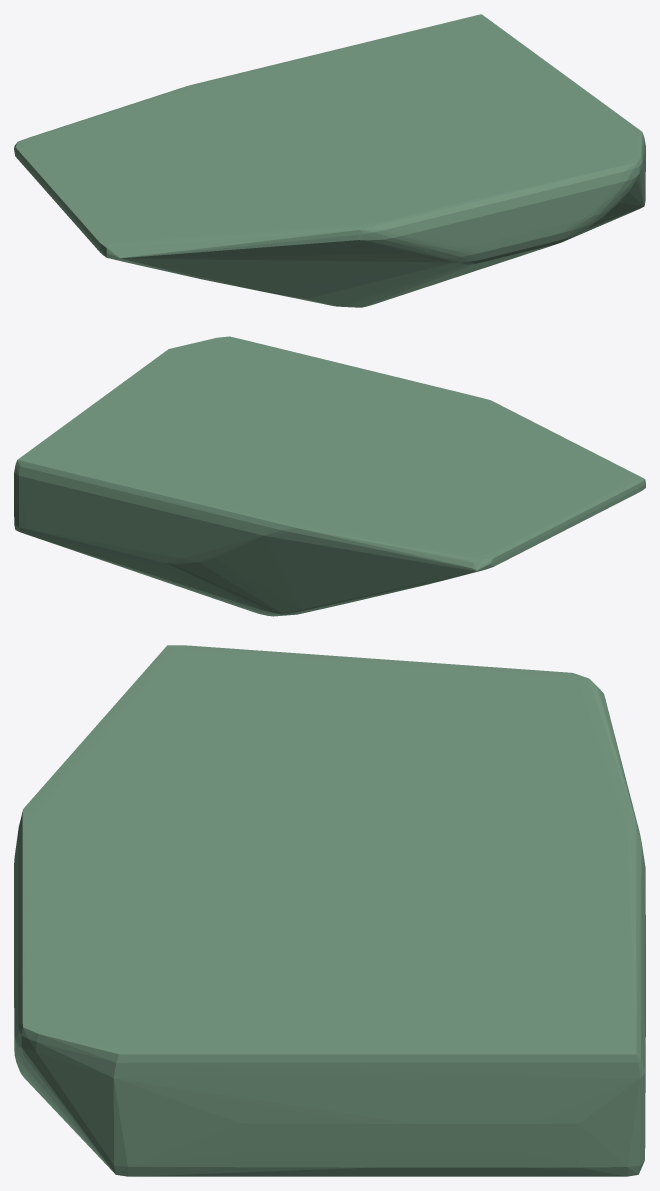
The model's file is left-tarsus-0_part_0.obj.
3 renders of one model, top to bottom at view 1: azimuth 30°, elevation 25°; view 2: azimuth 150°, elevation 25°; view 3: azimuth 270°, elevation 25°, orthographic. The views are drawn at different scales.
Size of the model in its own units: 0.1123 by 0.026 by 0.0726.
